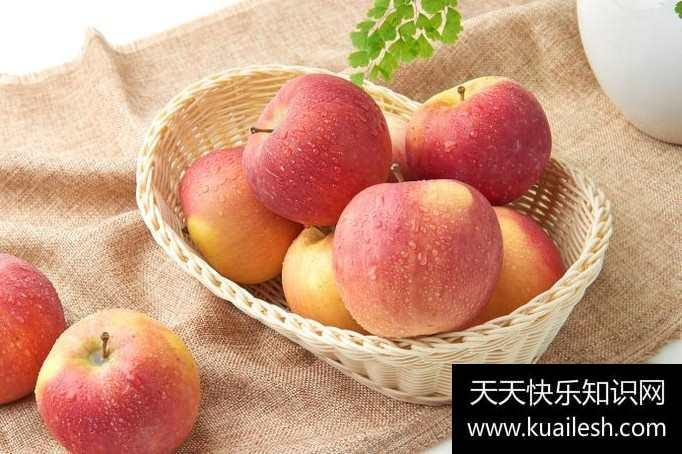apple: (330, 179, 504, 339), (32, 308, 200, 452), (240, 71, 391, 227), (399, 71, 553, 208), (178, 144, 301, 285), (1, 251, 66, 403), (485, 205, 566, 321), (281, 221, 363, 329)
